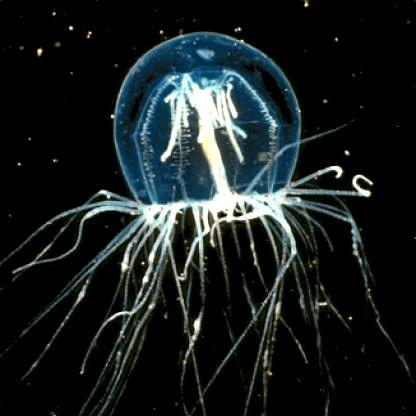FriedEggs: (34, 37, 378, 371)
